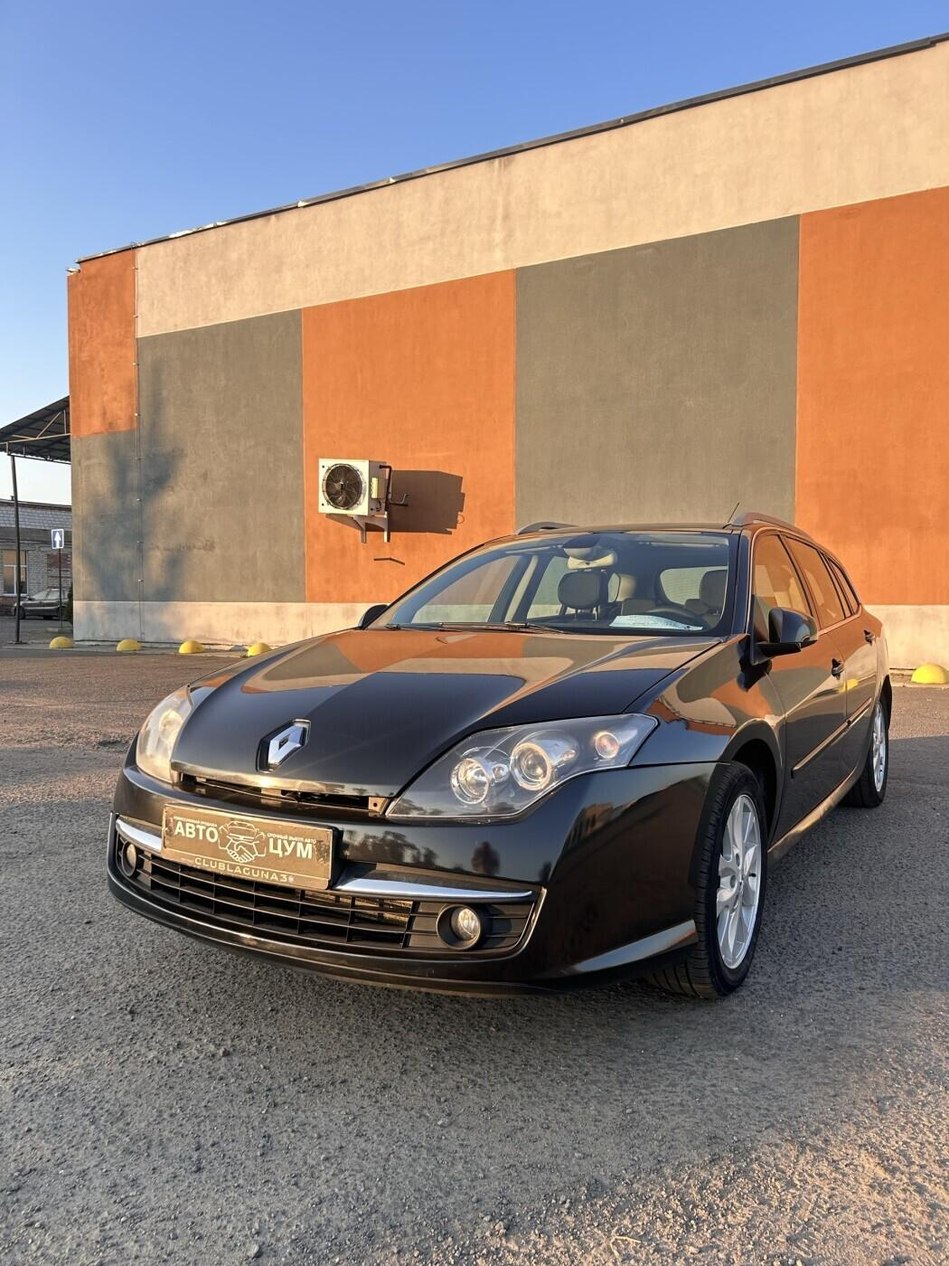Laguna_2007-2011: (108, 516, 892, 997)
